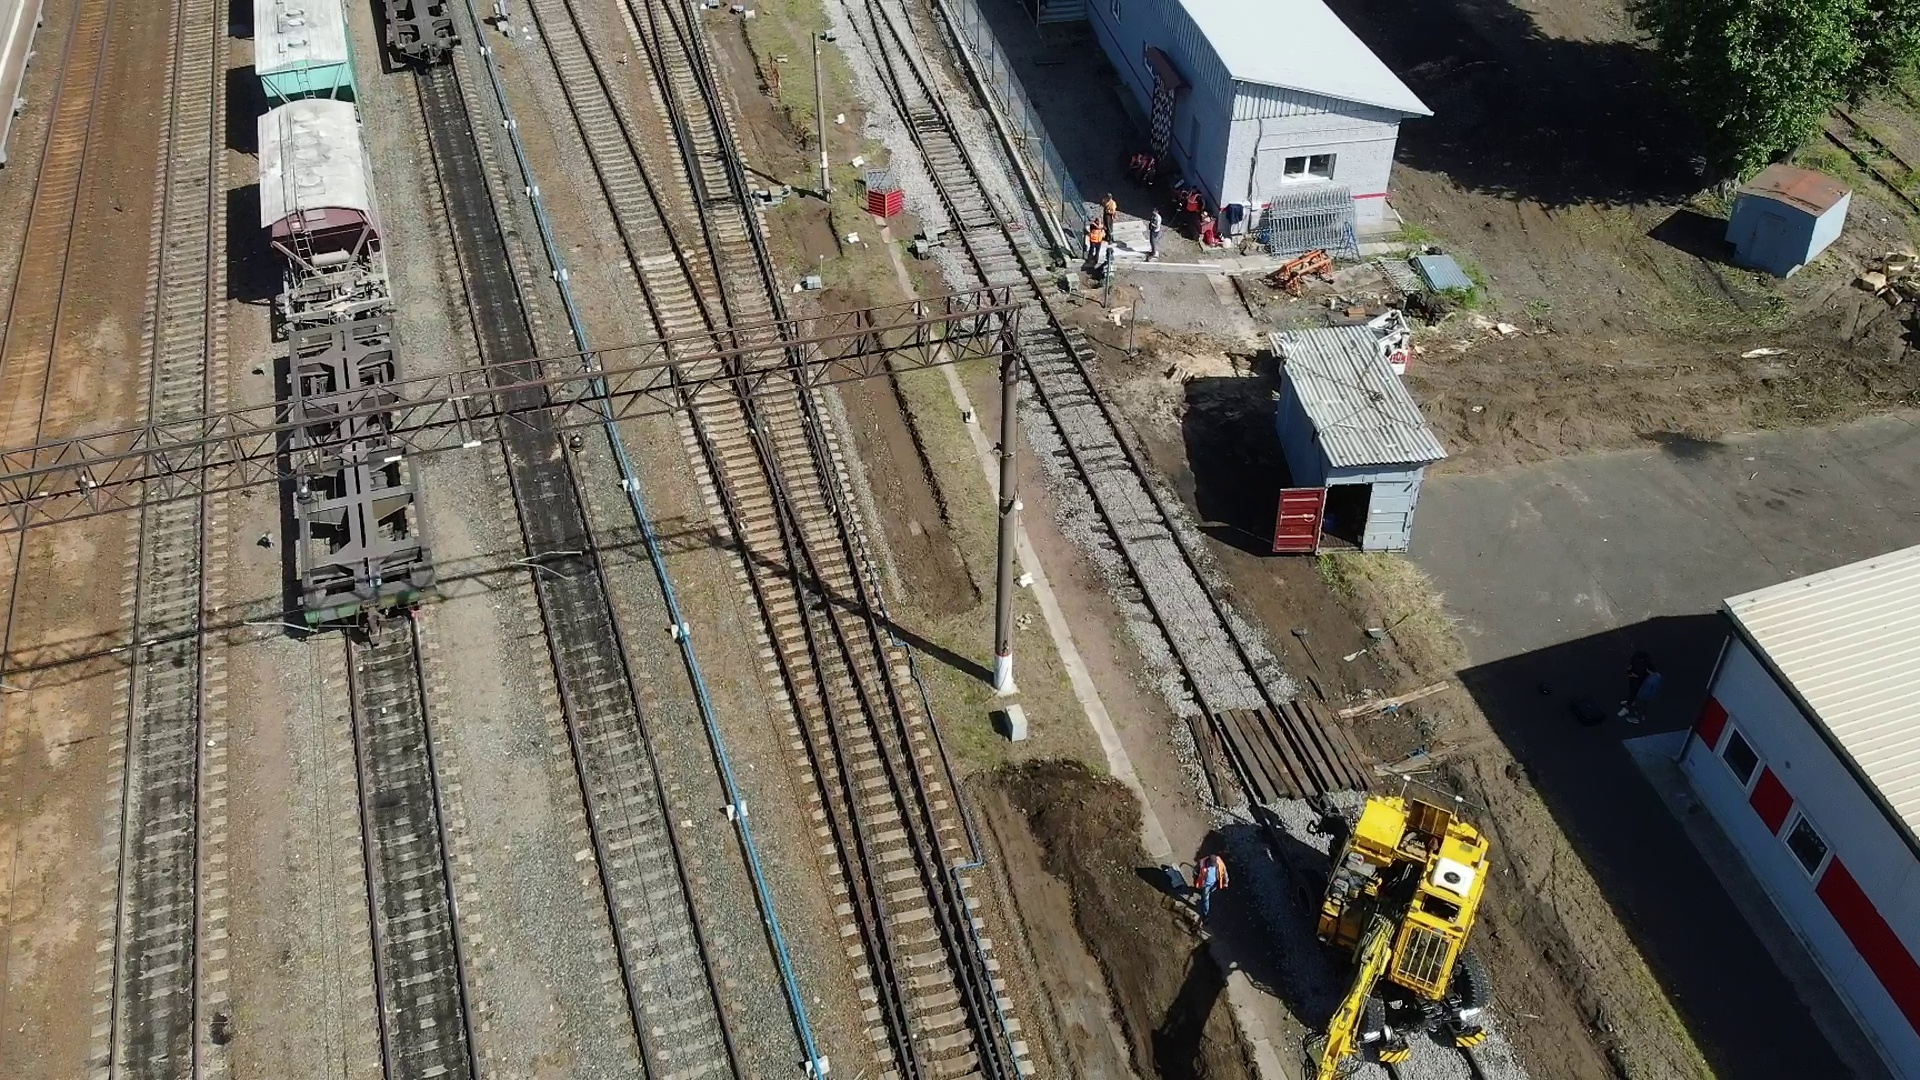kjtv: (1312, 798, 1490, 993)
